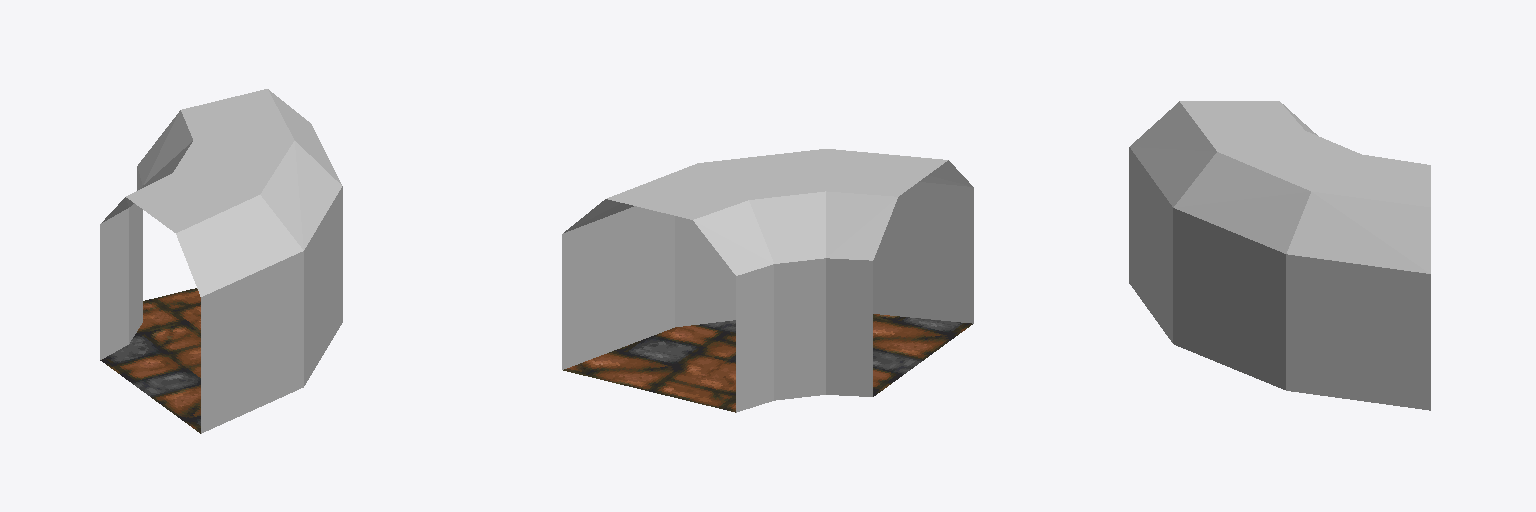
3 views of the same model, side by side, from view 1: azimuth 30°, elevation 25°; view 2: azimuth 150°, elevation 25°; view 3: azimuth 270°, elevation 25° (orthographic).
Visible parts, largest first — view 1: model61204-node; view 2: model61204-node; view 3: model61204-node.
Boxes of the visible parts, <box> form: model61204-node: <box>100,89,342,433</box>; model61204-node: <box>562,149,973,412</box>; model61204-node: <box>1129,101,1430,410</box>.
Bounding box in the file's own units: 4.8 × 3.2 × 4.8.
3 materials, 1 textured.